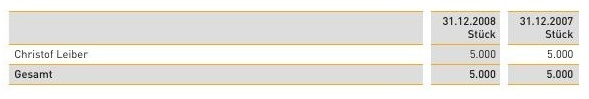table: (0, 0, 589, 99)
